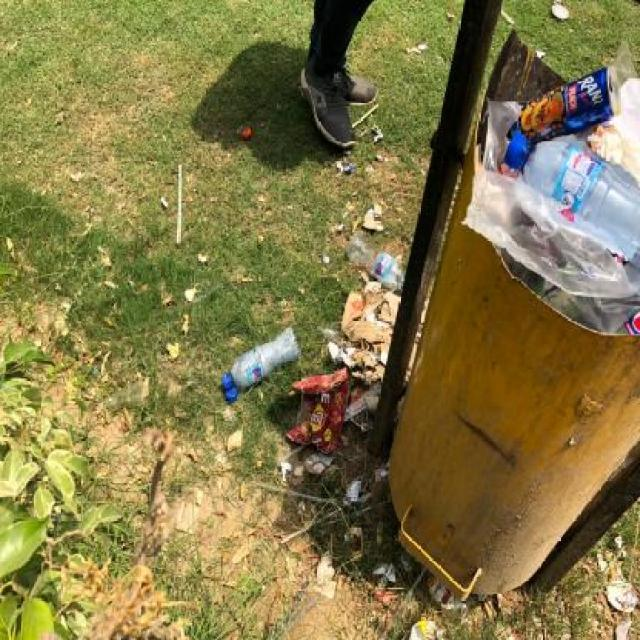garbage: (466, 42, 640, 342), (343, 200, 402, 364), (214, 328, 311, 404), (309, 328, 381, 405), (280, 406, 364, 459), (403, 603, 459, 640)
